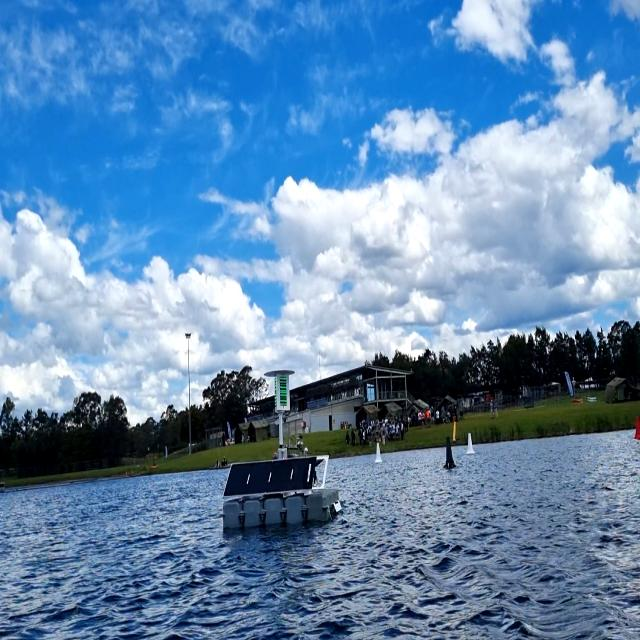led: (278, 374, 289, 408)
